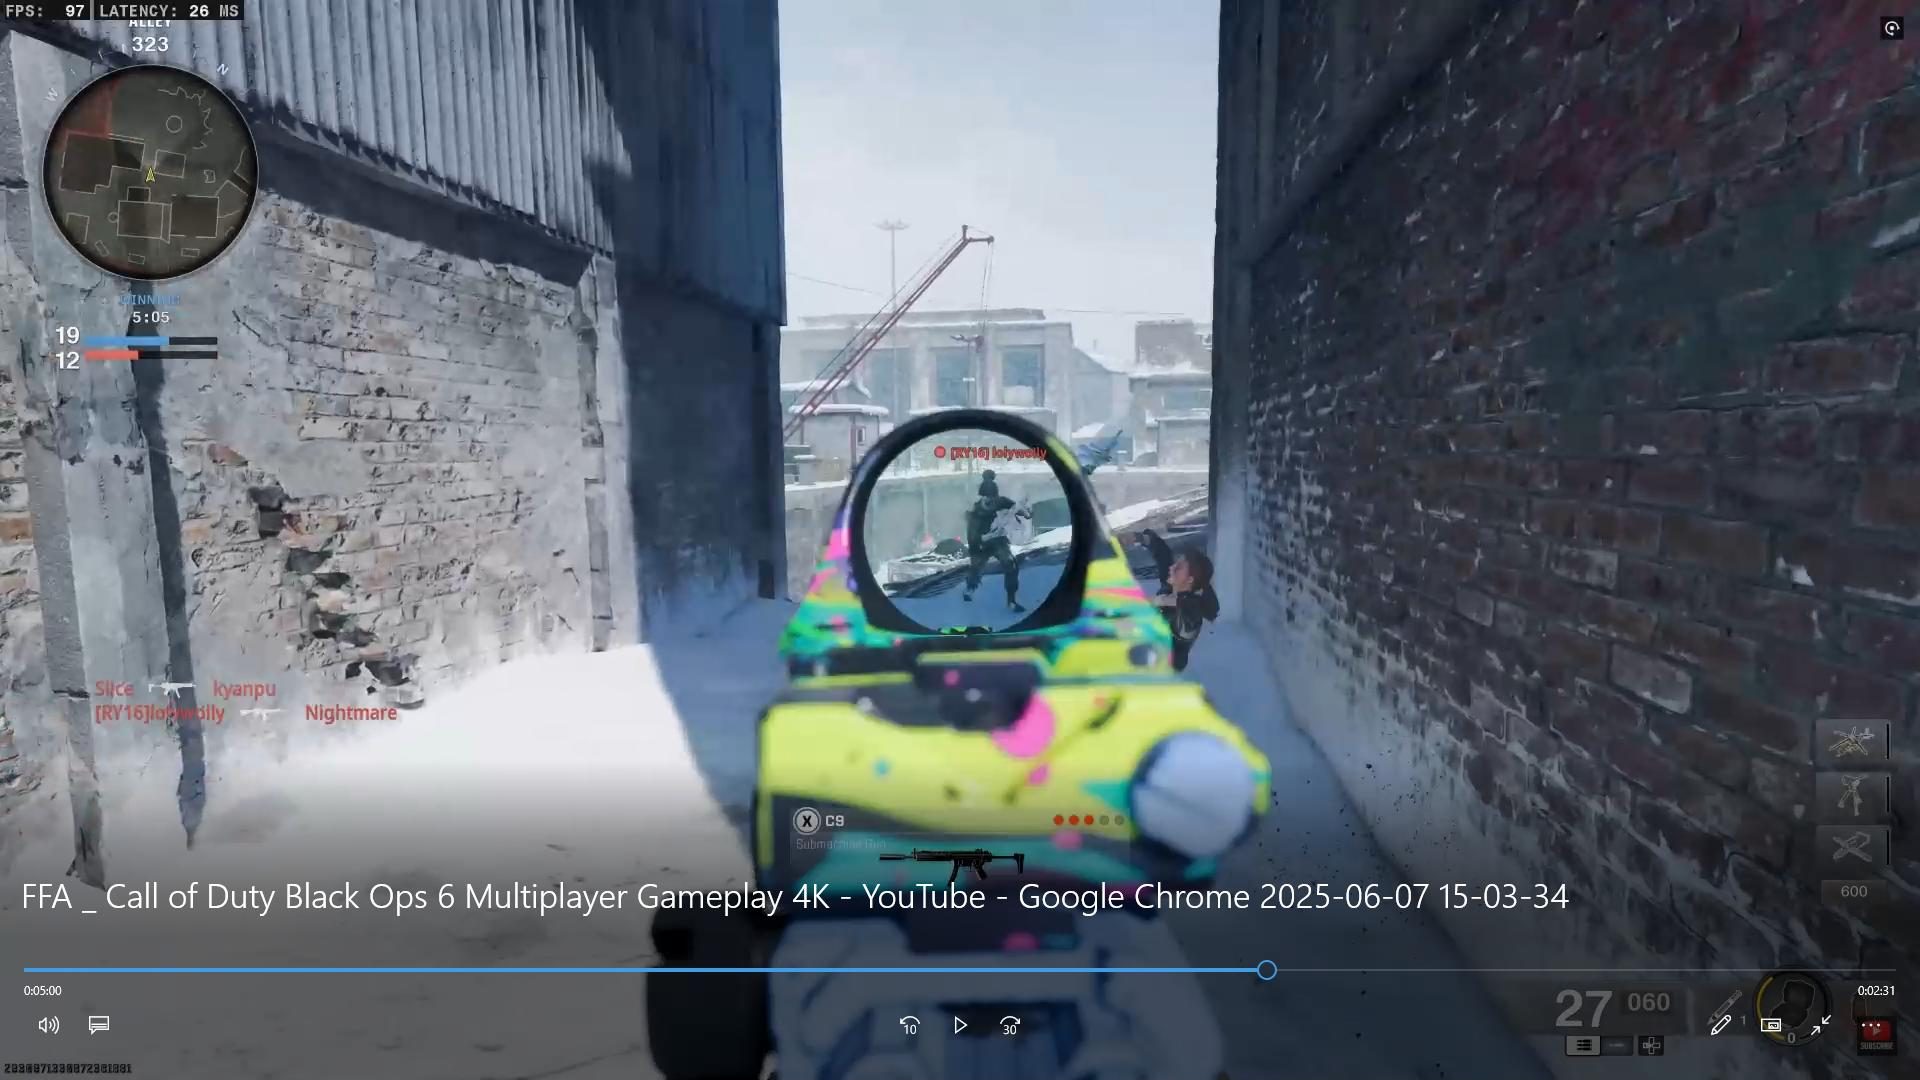Enemy: (953, 463, 1033, 608)
